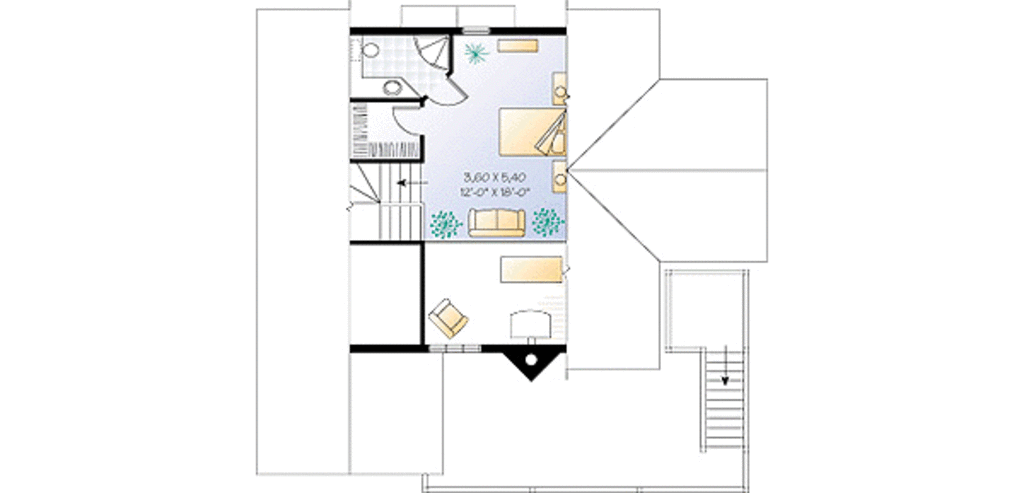bed: (497, 104, 568, 159)
door: (430, 78, 469, 106), (391, 101, 421, 136)
large_sink: (351, 38, 380, 63)
large_sofa: (465, 207, 527, 238)
small_sink: (375, 76, 411, 97)
small_sofa: (425, 298, 469, 338)
stairs: (347, 162, 427, 244), (700, 342, 747, 457)
windows: (427, 344, 482, 355)
